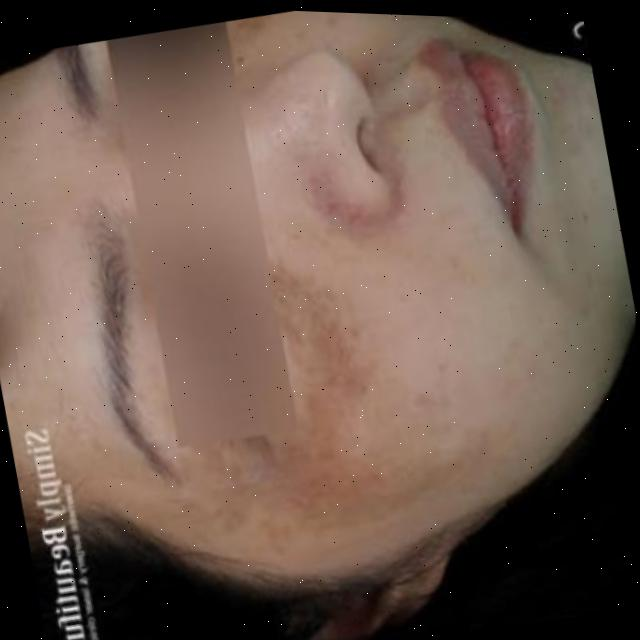Melasma: (162, 227, 471, 558), (220, 8, 306, 67)
